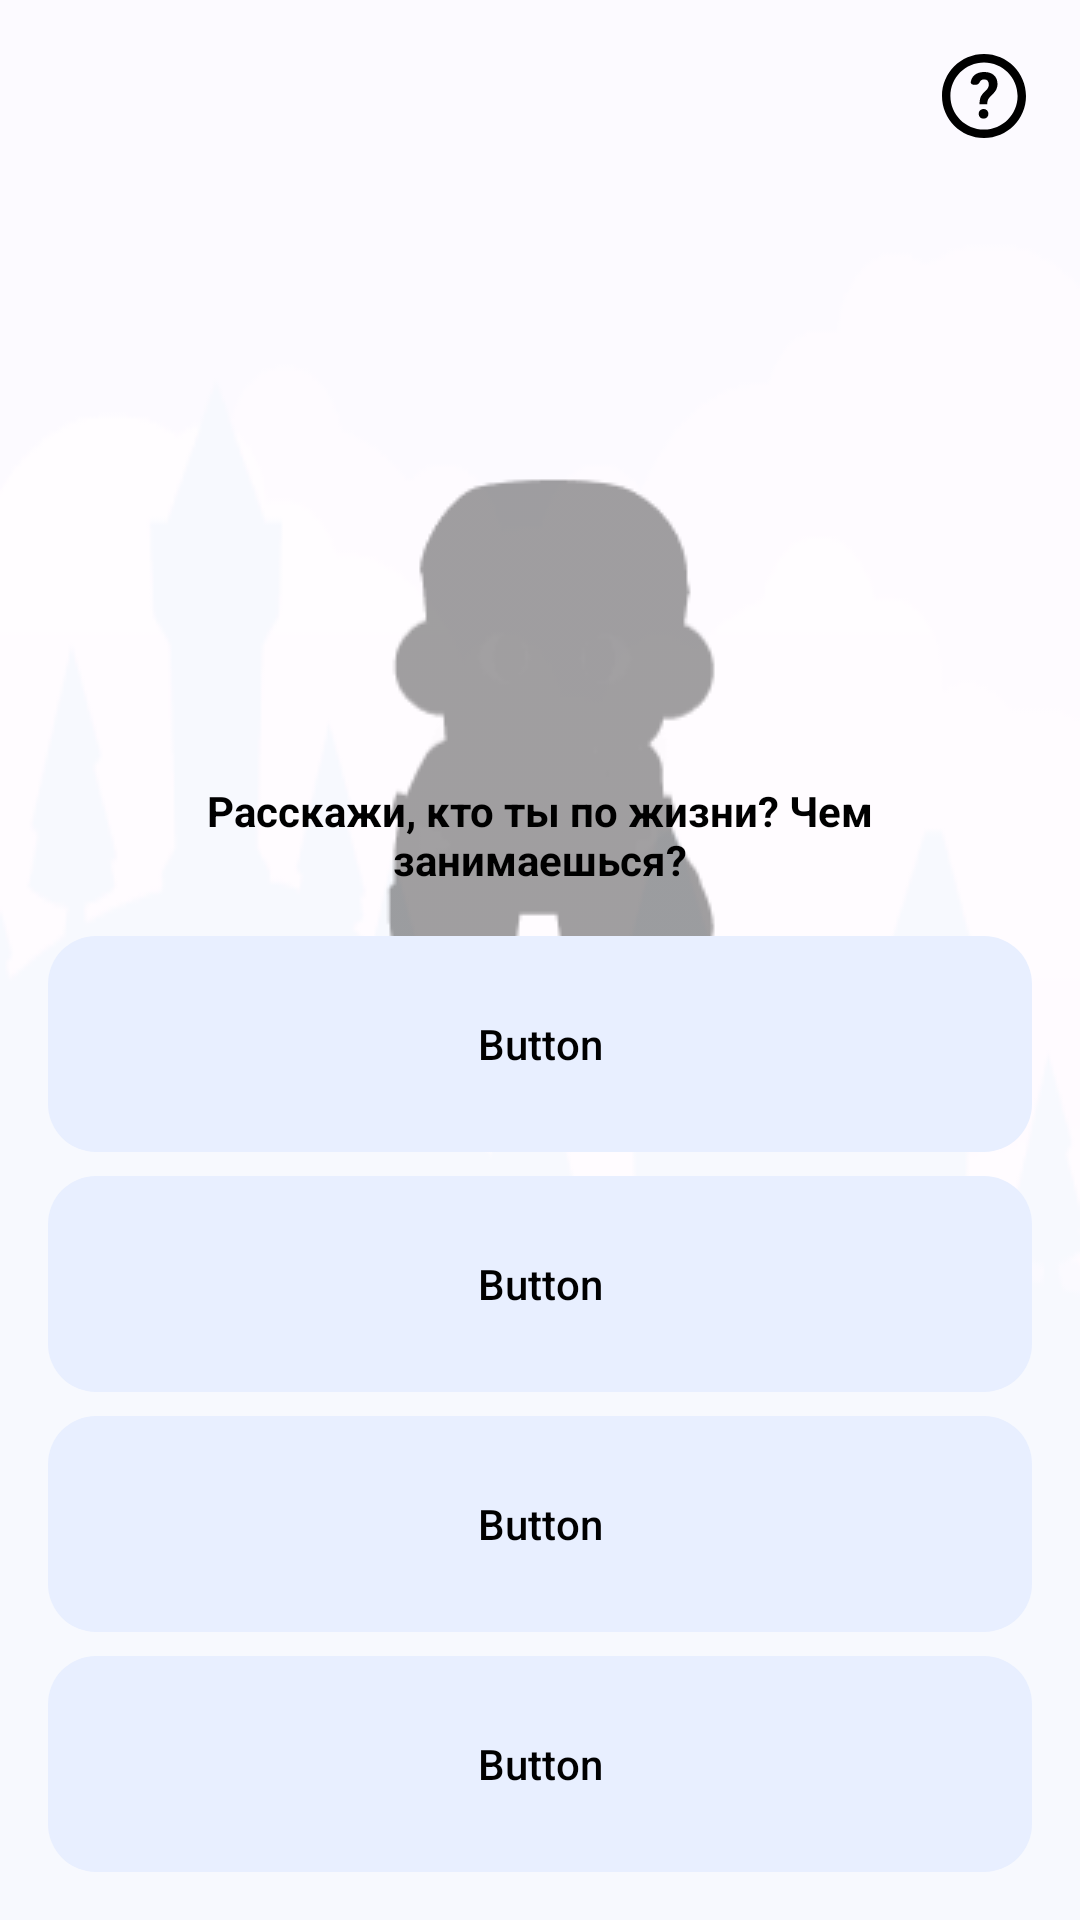

Locate icon controls on the screen. Image size 1080x1920, boxes as (x1, y1, x2, y2).
question: (942, 54, 1026, 138)
